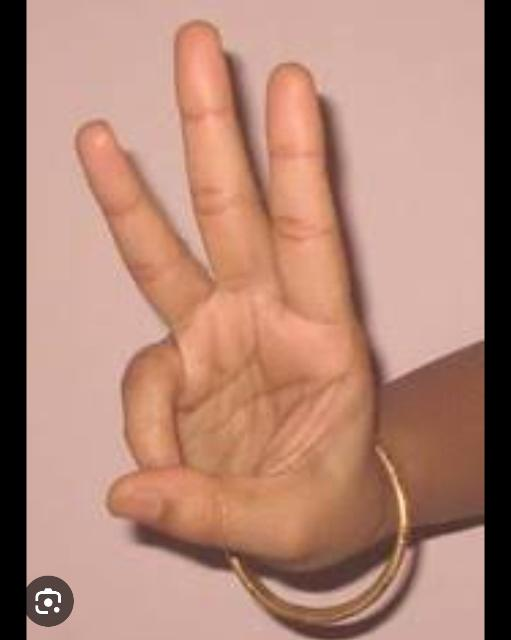trishool: (76, 23, 395, 569)
